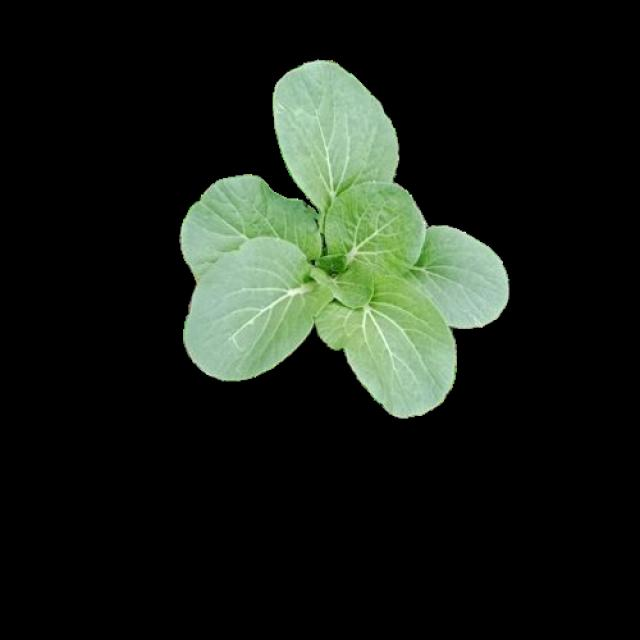healthy: (178, 56, 506, 415)
not-mature: (181, 59, 508, 417)
